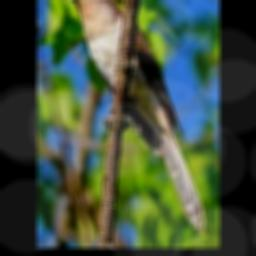Cuckoo: (63, 0, 206, 233)
